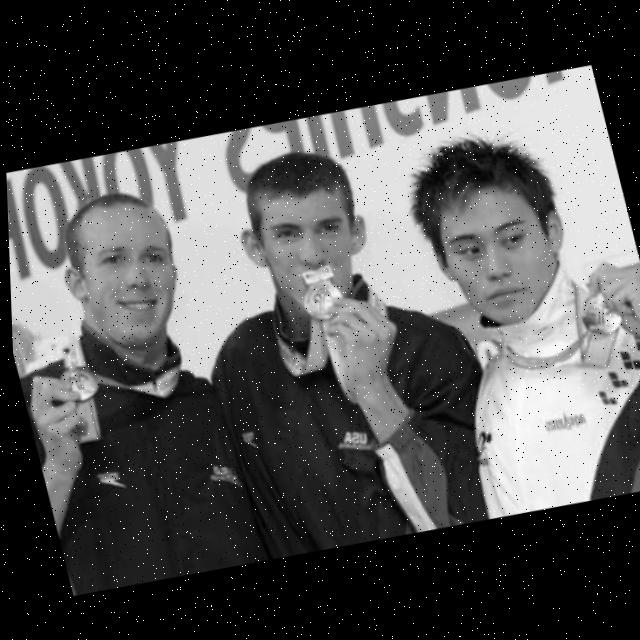face: (408, 148, 587, 336), (39, 183, 204, 371), (221, 156, 394, 333)
